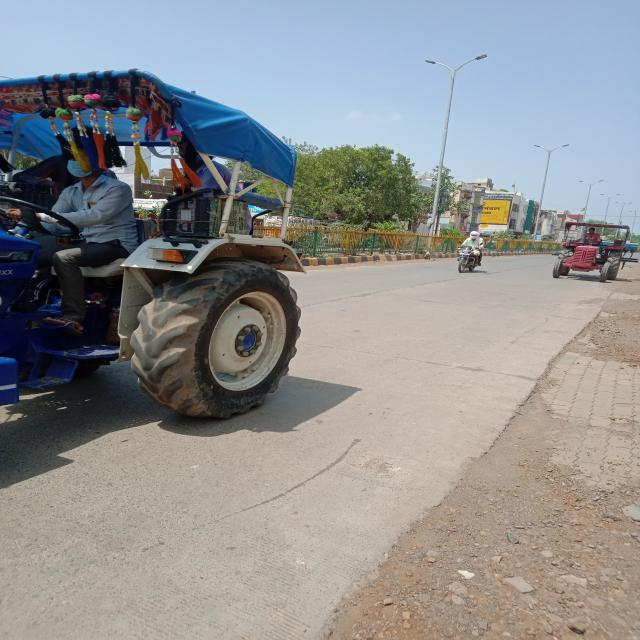Bike: (444, 236, 501, 274)
Truck: (555, 227, 581, 242)
tractor: (0, 63, 312, 418), (548, 212, 628, 290)
